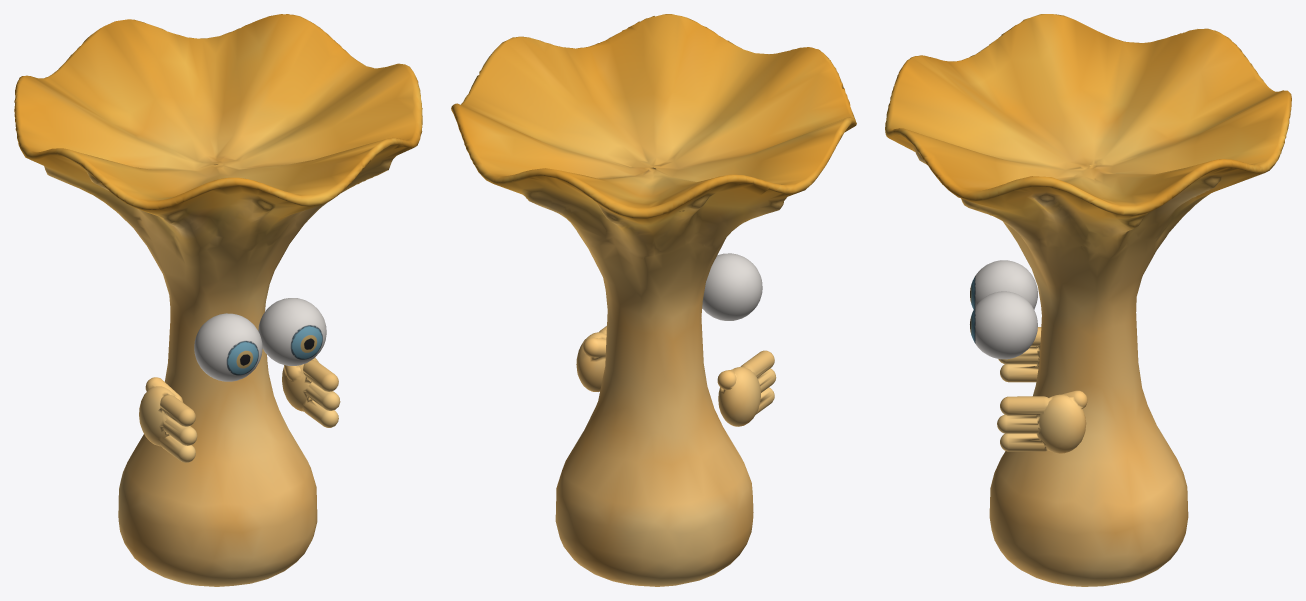
Rendered from chanterelle-scout.glb.
The picture shows the model from 3 angles, left to right: view 1: azimuth 30°, elevation 25°; view 2: azimuth 150°, elevation 25°; view 3: azimuth 270°, elevation 25°; orthographic projection.
Parts seen in each view (by area): view 1: body, eye.1, eye.0, hand.1, hand.0; view 2: body, eye.1, hand.1, hand.0; view 3: body, hand.0, eye.0, eye.1, hand.1.
Boxes of the visible parts, x1,y1,x2,y2 form: body: (14, 14, 422, 586); eye.1: (194, 313, 262, 381); eye.0: (258, 298, 326, 365); hand.1: (139, 377, 197, 462); hand.0: (282, 357, 340, 427); body: (451, 14, 856, 586); eye.1: (702, 253, 762, 320); hand.1: (717, 350, 776, 426); hand.0: (576, 326, 606, 391); body: (885, 14, 1291, 586); hand.0: (997, 390, 1087, 453); eye.0: (970, 291, 1037, 359); eye.1: (970, 260, 1037, 309); hand.1: (998, 327, 1041, 382).
Size of the model in its own units: 1.43 by 1.83 by 1.44.
